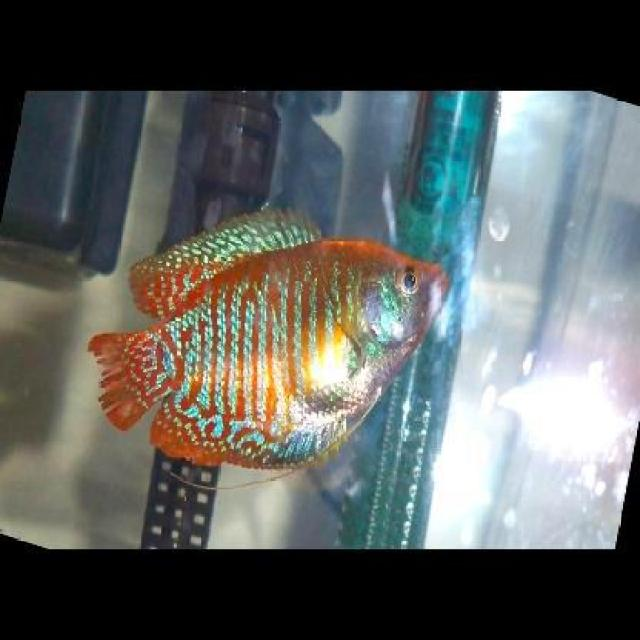Gourami: (86, 208, 462, 484)
